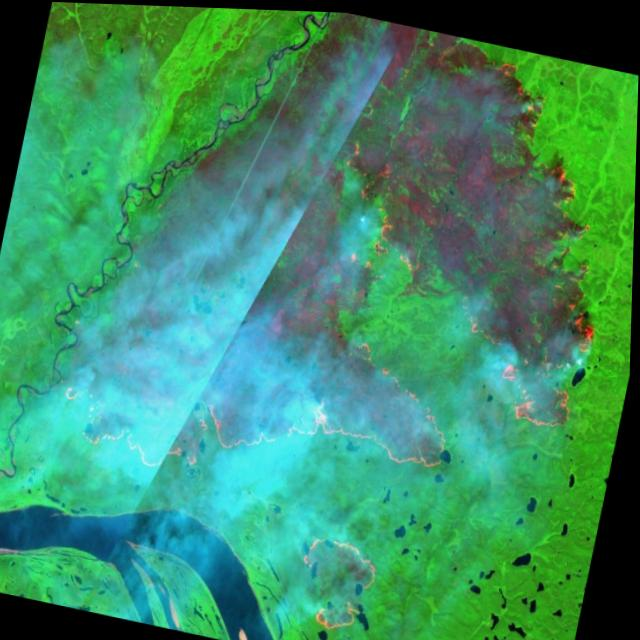fire: (22, 1, 640, 640)
